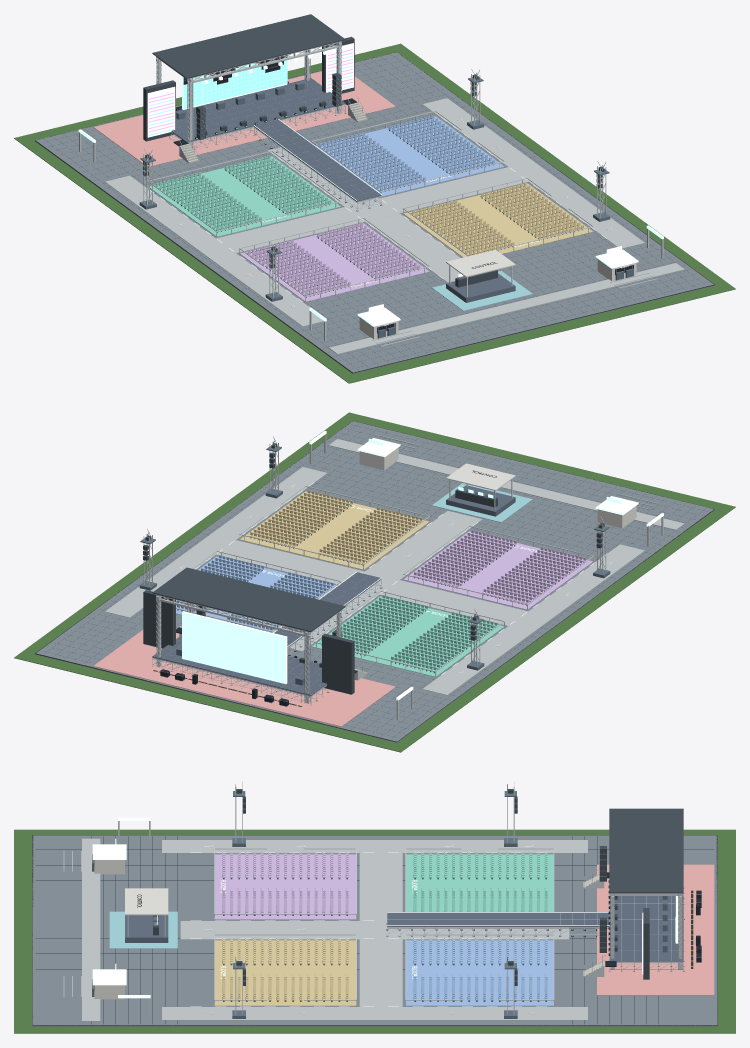
Rendered from concert.glb.
3 views of the same model, one above another, from view 1: azimuth 30°, elevation 25°; view 2: azimuth 150°, elevation 25°; view 3: azimuth 270°, elevation 25° (orthographic). The views are drawn at different scales.
Parts seen in each view (by area): view 1: Protective floor, Walkways, Reference grass, 플로어 A, Speaker, 플로어 B, 플로어 D, 플로어 C, Stage deck, Truss, 무대·백스테이지, Detail • brushed aluminum (+8 smaller); view 2: Protective floor, Walkways, Reference grass, Speaker, 플로어 C, 플로어 D, 플로어 A, 무대·백스테이지, LED mint, Truss, Stage deck, 플로어 B (+6 smaller); view 3: Protective floor, Walkways, Reference grass, 플로어 B, 플로어 C, 플로어 D, 플로어 A, Speaker, Stage deck, 무대·백스테이지, Truss, Detail • charcoal equipment (+7 smaller).
Part boxes in pixels (x1=…): Protective floor: x1=35, y1=52, x2=714, y2=373; Walkways: x1=105, y1=98, x2=684, y2=354; Reference grass: x1=14, y1=43, x2=735, y2=383; 플로어 A: x1=148, y1=155, x2=340, y2=236; Speaker: x1=143, y1=14, x2=604, y2=287; 플로어 B: x1=315, y1=115, x2=504, y2=196; 플로어 D: x1=403, y1=183, x2=593, y2=257; 플로어 C: x1=240, y1=223, x2=429, y2=301; Stage deck: x1=171, y1=78, x2=515, y2=302; Truss: x1=79, y1=41, x2=663, y2=346; 무대·백스테이지: x1=93, y1=71, x2=395, y2=166; Detail • brushed aluminum: x1=156, y1=41, x2=632, y2=330; Protective floor: x1=35, y1=421, x2=714, y2=742; Walkways: x1=105, y1=439, x2=684, y2=695; Reference grass: x1=14, y1=412, x2=735, y2=752; Speaker: x1=143, y1=443, x2=604, y2=694; 플로어 C: x1=403, y1=530, x2=592, y2=609; 플로어 D: x1=239, y1=490, x2=429, y2=569; 플로어 A: x1=311, y1=595, x2=503, y2=676; 무대·백스테이지: x1=93, y1=630, x2=395, y2=726; LED mint: x1=182, y1=430, x2=663, y2=700; Truss: x1=143, y1=434, x2=663, y2=719; Stage deck: x1=152, y1=485, x2=515, y2=695; 플로어 B: x1=176, y1=555, x2=336, y2=632; Protective floor: x1=32, y1=835, x2=717, y2=1026; Walkways: x1=82, y1=838, x2=587, y2=1021; Reference grass: x1=14, y1=829, x2=735, y2=1033; 플로어 B: x1=406, y1=936, x2=553, y2=1005; 플로어 C: x1=214, y1=850, x2=356, y2=919; 플로어 D: x1=214, y1=936, x2=356, y2=1005; 플로어 A: x1=406, y1=850, x2=553, y2=911; Speaker: x1=153, y1=789, x2=683, y2=985; Stage deck: x1=125, y1=896, x2=683, y2=961; 무대·백스테이지: x1=597, y1=864, x2=714, y2=995; Truss: x1=63, y1=781, x2=683, y2=1019; Detail • charcoal equipment: x1=36, y1=836, x2=713, y2=1023.
Size of the model in its own units: 78 by 14.57 by 117.
